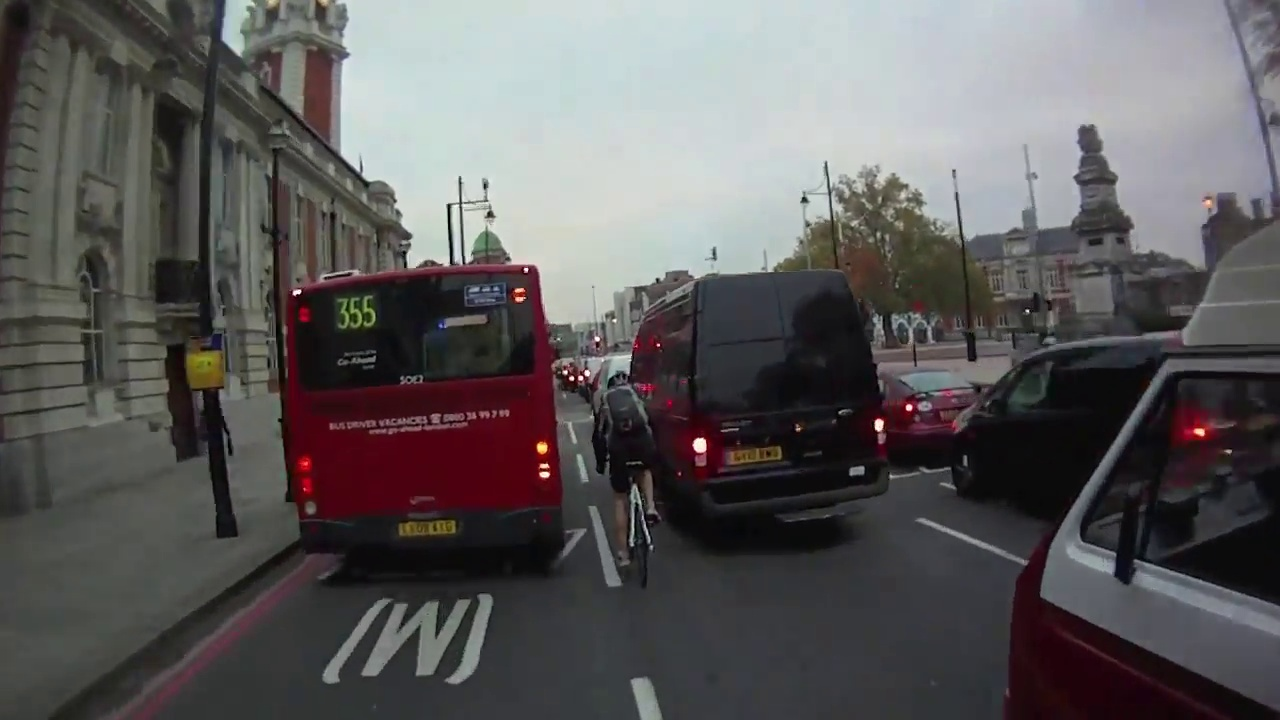cyclist_back: (576, 367, 672, 590)
